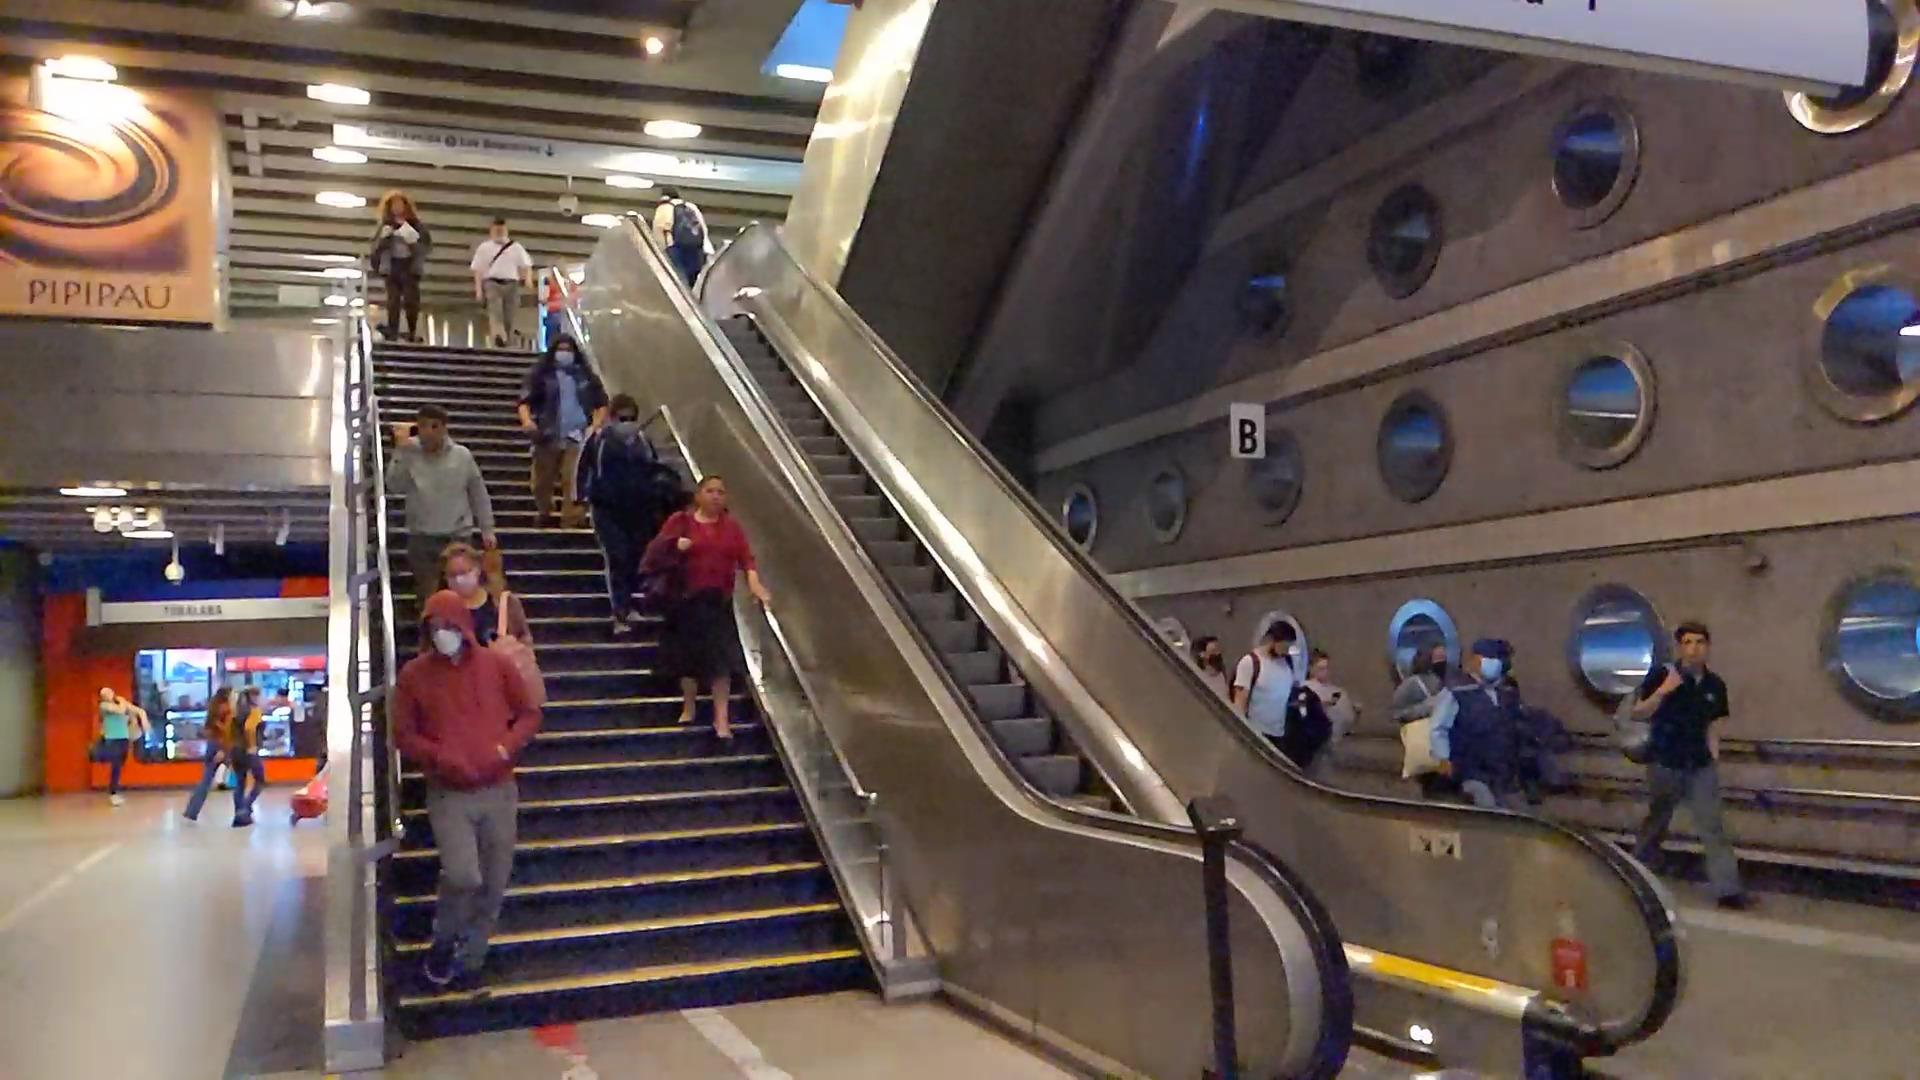down arrow: (543, 141, 558, 162)
